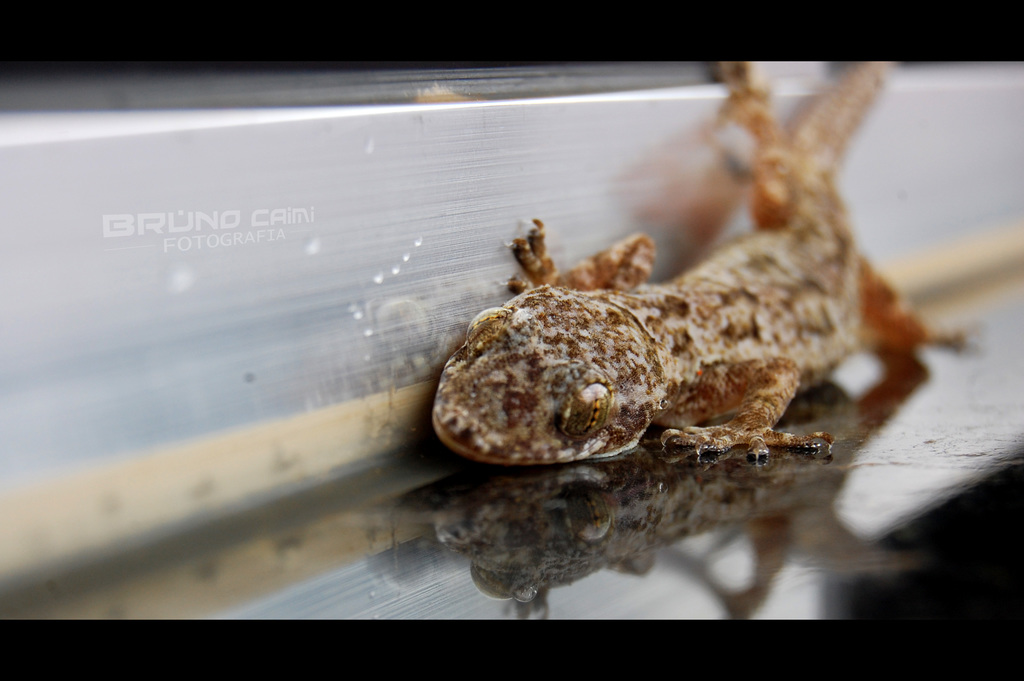Animal: (431, 61, 974, 464)
